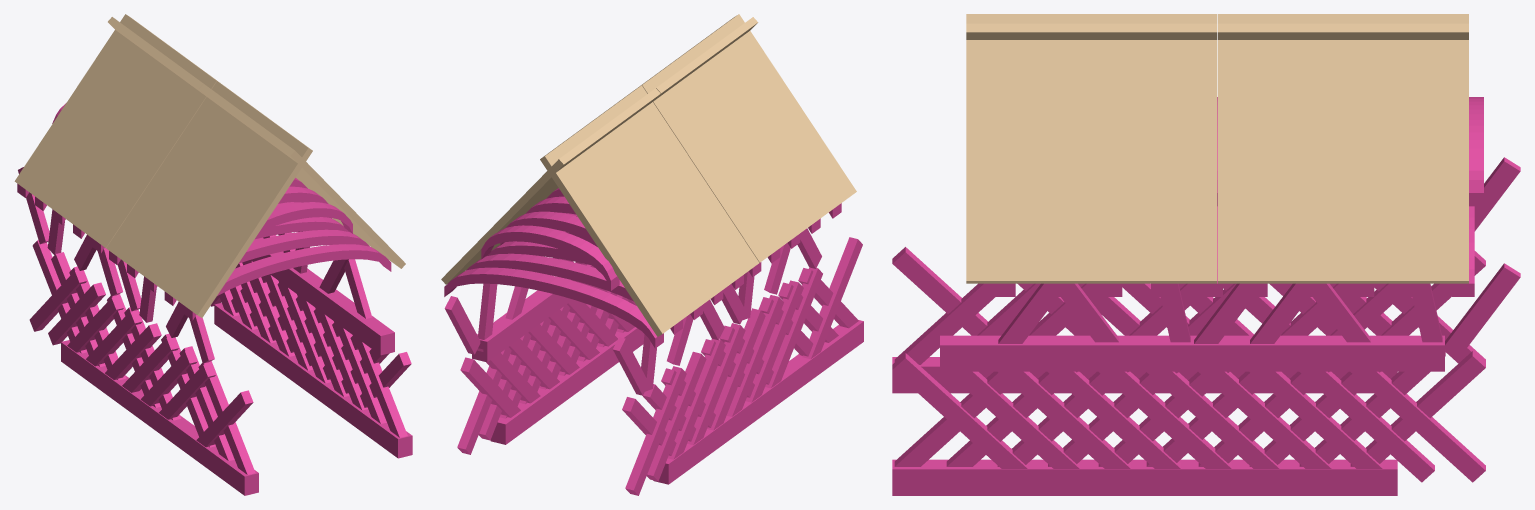
File: hautpont.fbx
The picture shows the model from 3 angles, left to right: view 1: azimuth 30°, elevation 25°; view 2: azimuth 150°, elevation 25°; view 3: azimuth 270°, elevation 25°; orthographic projection. The views are drawn at different scales.
Visible parts, largest first — view 1: planche-3m_curved_low.018, Cube.005; view 2: planche-3m_curved_low.018, Cube.005; view 3: Cube.005, planche-3m_curved_low.018.
Part boxes in pixels (left/top/right/bottom): planche-3m_curved_low.018: left=17, top=103, right=412, bottom=495; Cube.005: left=14, top=14, right=405, bottom=317; planche-3m_curved_low.018: left=444, top=188, right=863, bottom=495; Cube.005: left=441, top=14, right=856, bottom=336; Cube.005: left=966, top=14, right=1468, bottom=283; planche-3m_curved_low.018: left=892, top=97, right=1520, bottom=495.
Bounding box in the file's own units: 6.04 × 3.18 × 4.47.
